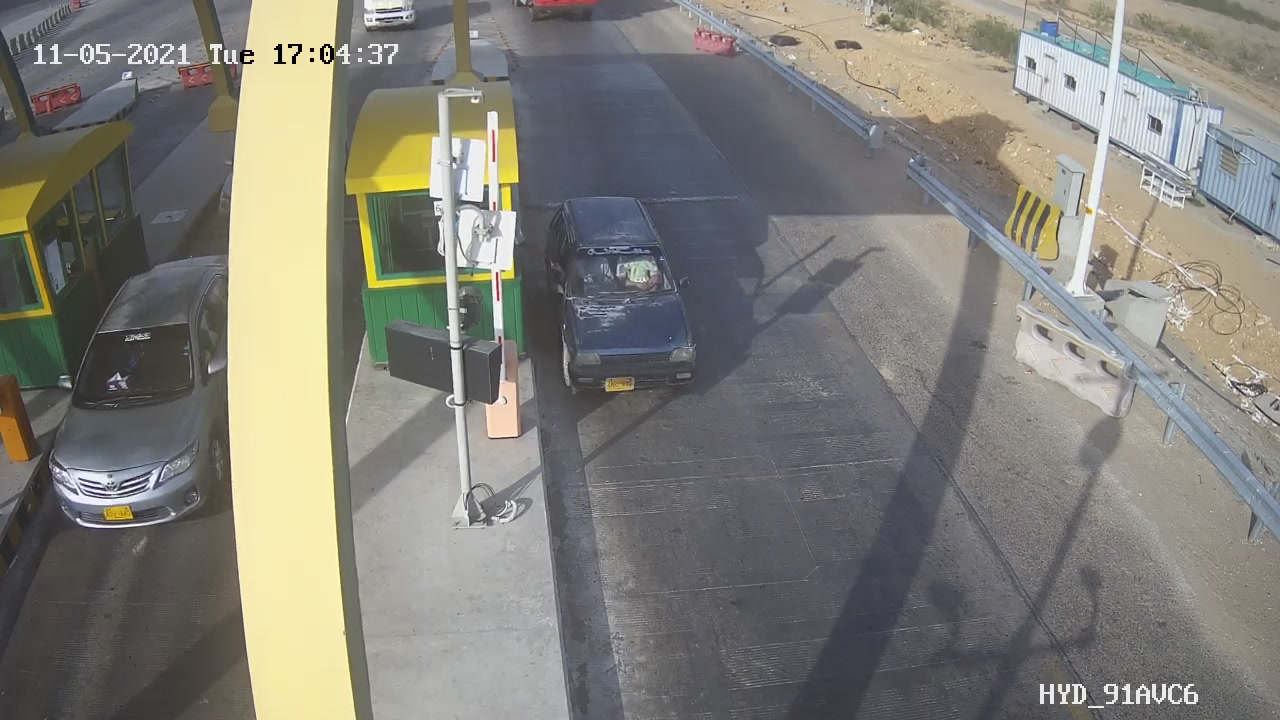F1: (526, 179, 722, 416)
